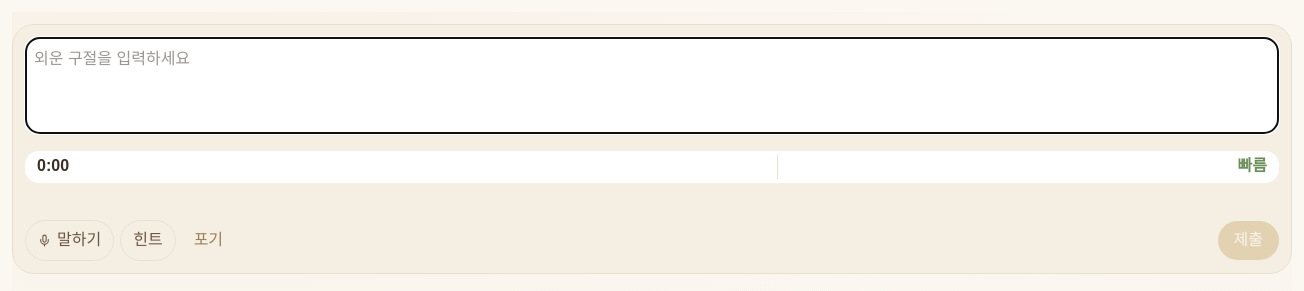
Test: MemorizeCheckPanel › can start over from the success screen
This screenshot has width=1304, height=291.
Type "그들에게 율례와 법도를 가르쳐서 마땅히 갈 길과 할 일을 그들에게 보이고" into the text box at (652, 86), box [25,37,1279,134]
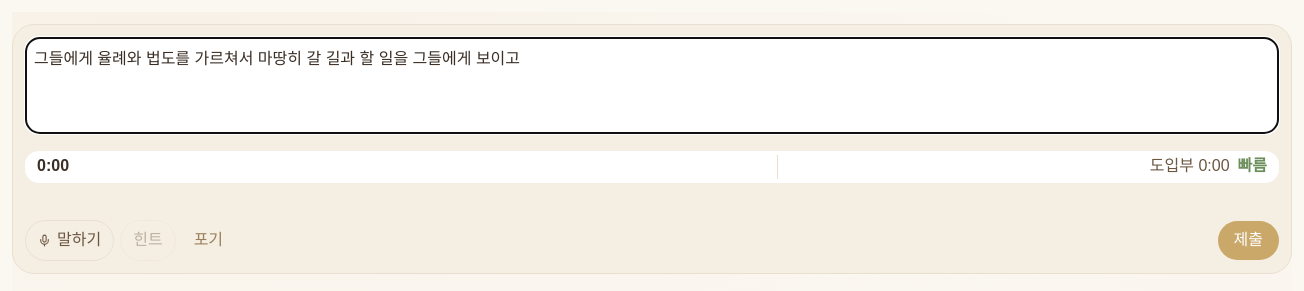
Click the button "제출" at (1248, 240), box [1218,221,1279,260]
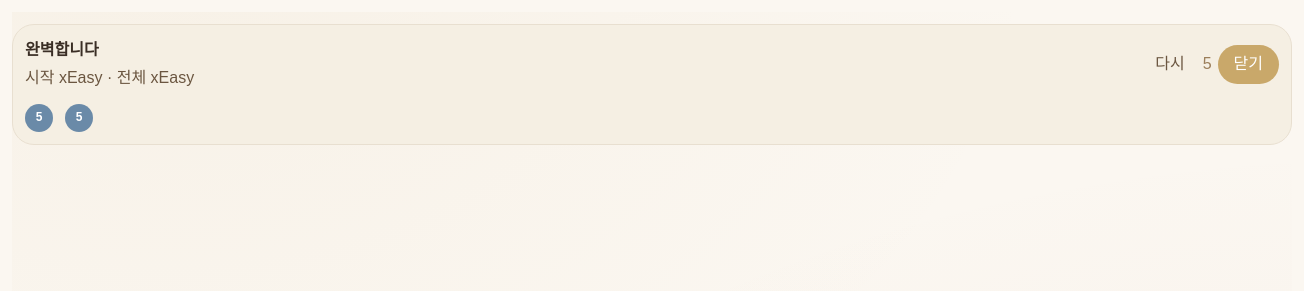
Click the button "다시" at (1170, 64), box [1143,45,1197,84]
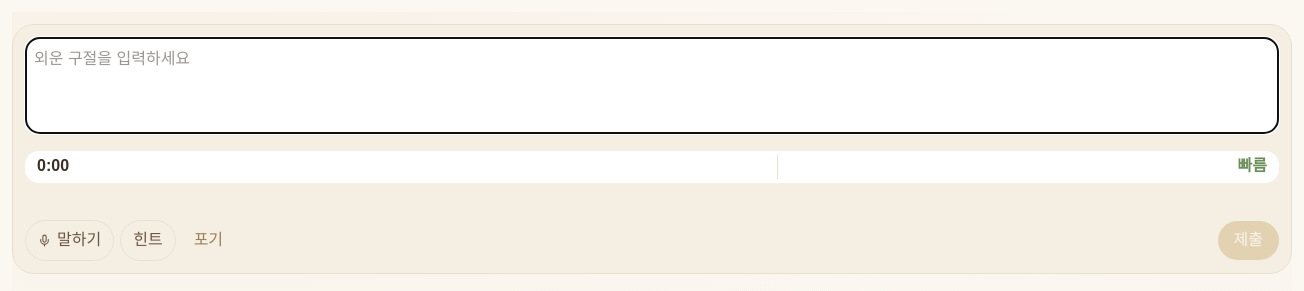
expect the text box is empty: met, box [25,37,1279,134]
expect the element with test id "memorize-success" is gone: met
